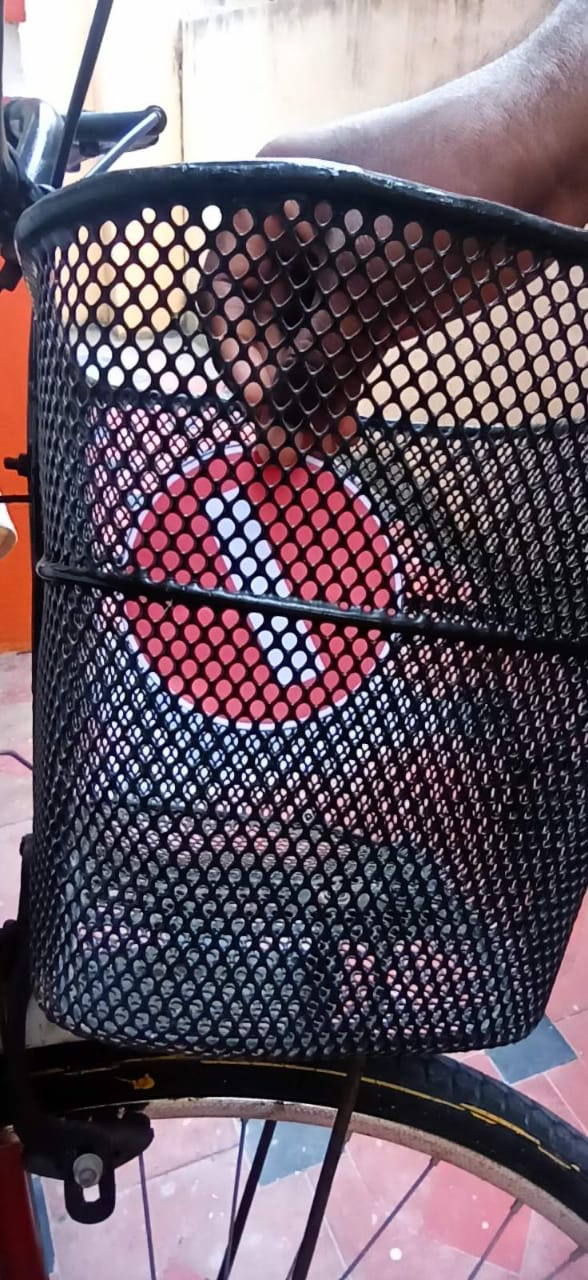NO ENTRY: (112, 410, 404, 713)
